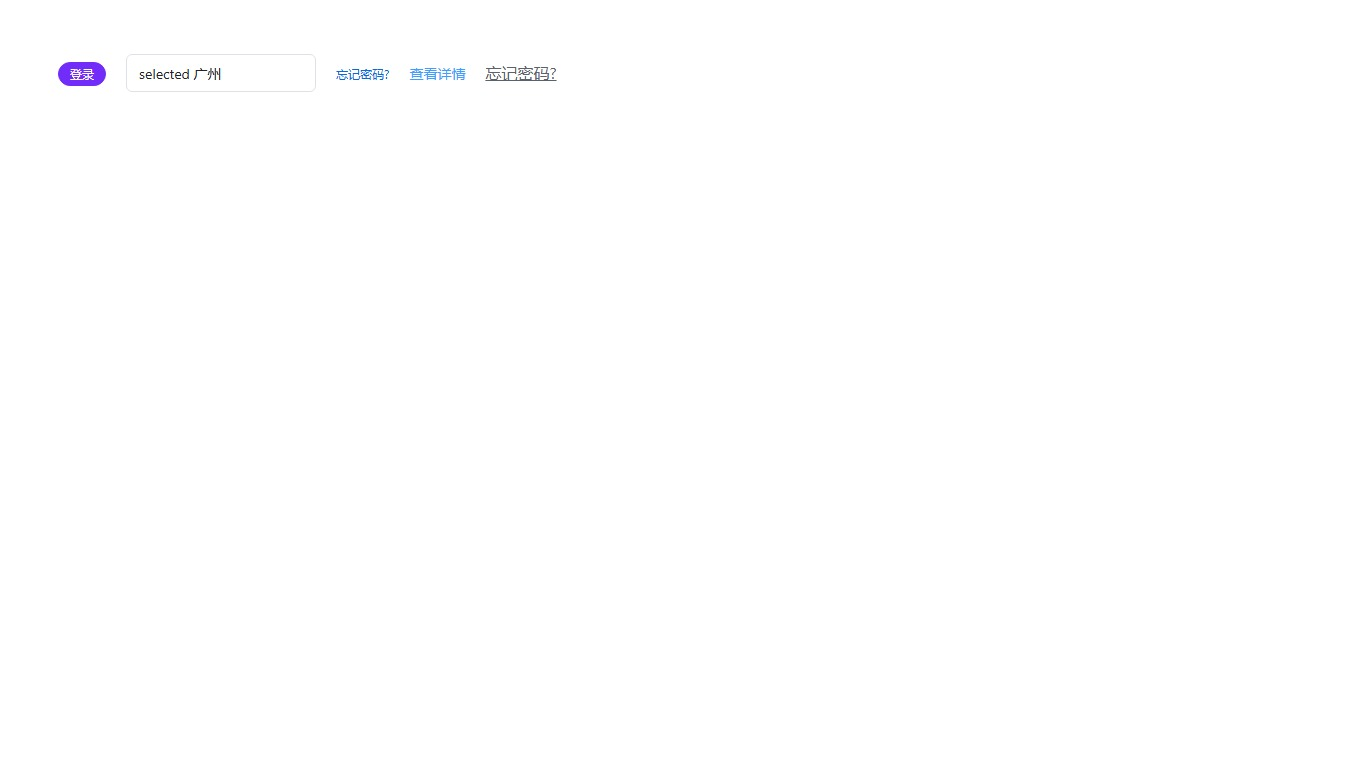button: (58, 61, 106, 85)
link: (485, 61, 557, 83), (409, 63, 465, 83), (336, 66, 389, 81)
select: (126, 54, 316, 92)
